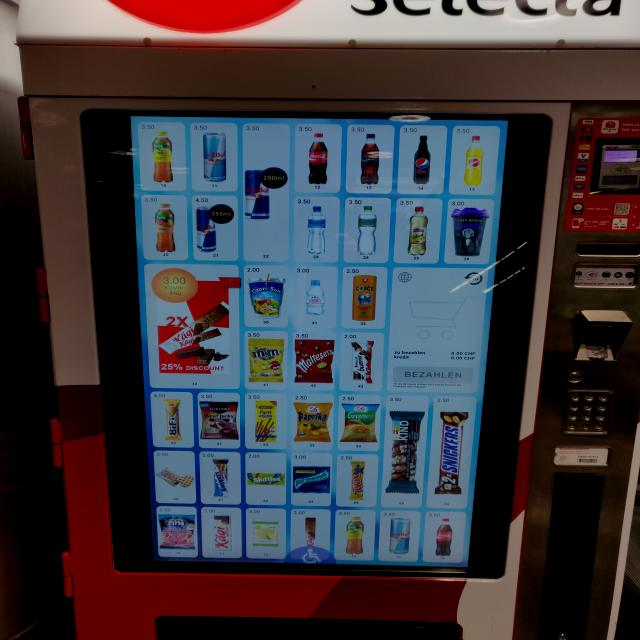airwaves_menthoneucalyptus_riegel_14_1_50173167: (286, 465, 334, 495)
bifi_roll__50__4251097402635: (164, 398, 182, 442)
bueno___43__4008400320328: (347, 339, 377, 386)
c-swiss_dosenabisicetea__33__9120025930135: (347, 273, 381, 324)
caferoyal_classicmacchiato__33__7617014164487: (446, 206, 496, 259)
caprisun_multivitamin__20__4000177605004: (242, 273, 286, 321)
coke__flasche_50__54491472: (306, 128, 335, 186)
coke_zero_flasche_50__5449000131836: (357, 133, 385, 187)
evian___50__3068320353500: (304, 278, 326, 317)
fini_galaxymix_packung_100_1_8410525150364: (158, 512, 198, 550)
fuse_lemon__50__5449000235947: (147, 128, 177, 184)
fuse_peach__50__5449000236623: (151, 200, 181, 254)
henniez_blau__33__7610235000442: (304, 203, 330, 257)
henniez_gruen__33__7610235000442: (352, 205, 380, 258)
jacklinks_beefjerkyorginal__25__4047751730219: (199, 400, 241, 443)
kagi___50__7610046000259: (210, 513, 234, 552)
knoppers_riegel____4035800488808: (208, 456, 234, 500)
malburner_partysticks__40__7610200279682: (252, 399, 280, 444)
maltesers___100__5000159023061: (291, 339, 337, 385)
mnms_gelb__45__40111445: (246, 338, 286, 384)
pepsi_max__50__4060800105943: (409, 132, 436, 187)
ramseier_schorle__50__7610057012456: (404, 204, 432, 257)
redbull___33__90162909: (241, 168, 274, 223), (195, 205, 218, 255)
redbull_light__33__90162800: (200, 132, 231, 182)
sinalco_orange__50__4018715000112: (454, 131, 490, 186)
skittles_sour_riegel_51_1_0000000000004: (243, 471, 288, 485)
snickers___50__5000159461122: (432, 409, 472, 499)
twix___50__5000159459228: (344, 459, 369, 502)
zweifel_graneochilli__100__7610095184009: (340, 400, 380, 444)
zweifel_paprika__90__7610095013002: (289, 399, 335, 444)
